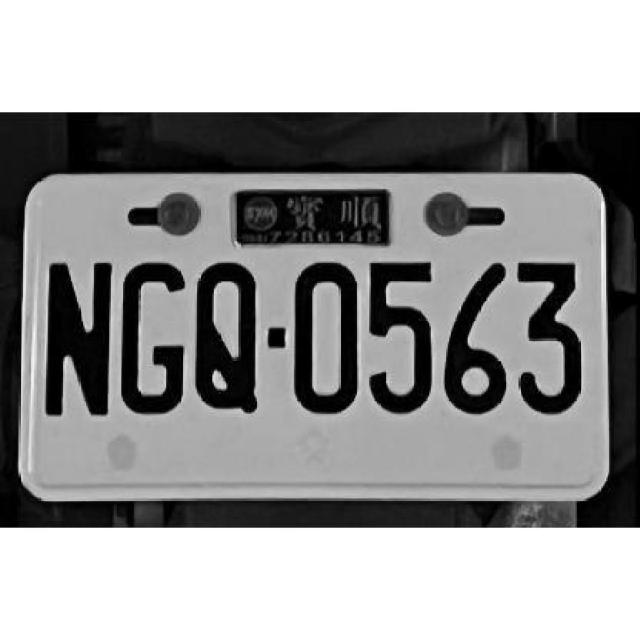-: (265, 322, 286, 352)
0: (289, 254, 360, 414)
3: (514, 254, 583, 418)
5: (368, 252, 438, 420)
6: (438, 257, 514, 418)
G: (112, 254, 188, 415)
N: (38, 250, 117, 422)
Q: (186, 254, 263, 426)
